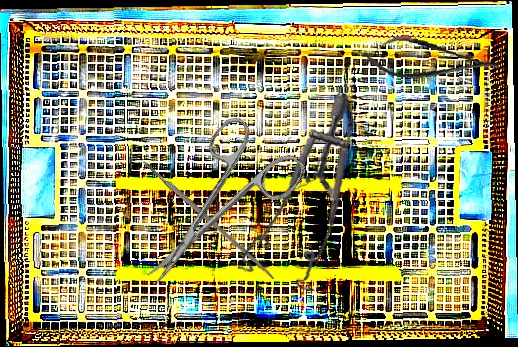Iris Scissors: (114, 106, 310, 310)
Micro Scissor: (362, 32, 501, 89)
Scalpel Handle: (141, 158, 277, 281)
Speculum: (217, 90, 373, 303)
